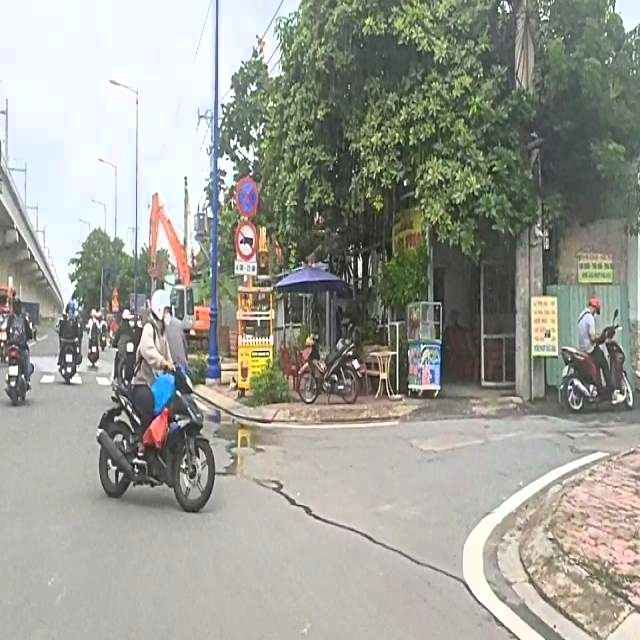B.8a: (235, 222, 259, 261)
P.130: (237, 176, 259, 216)
